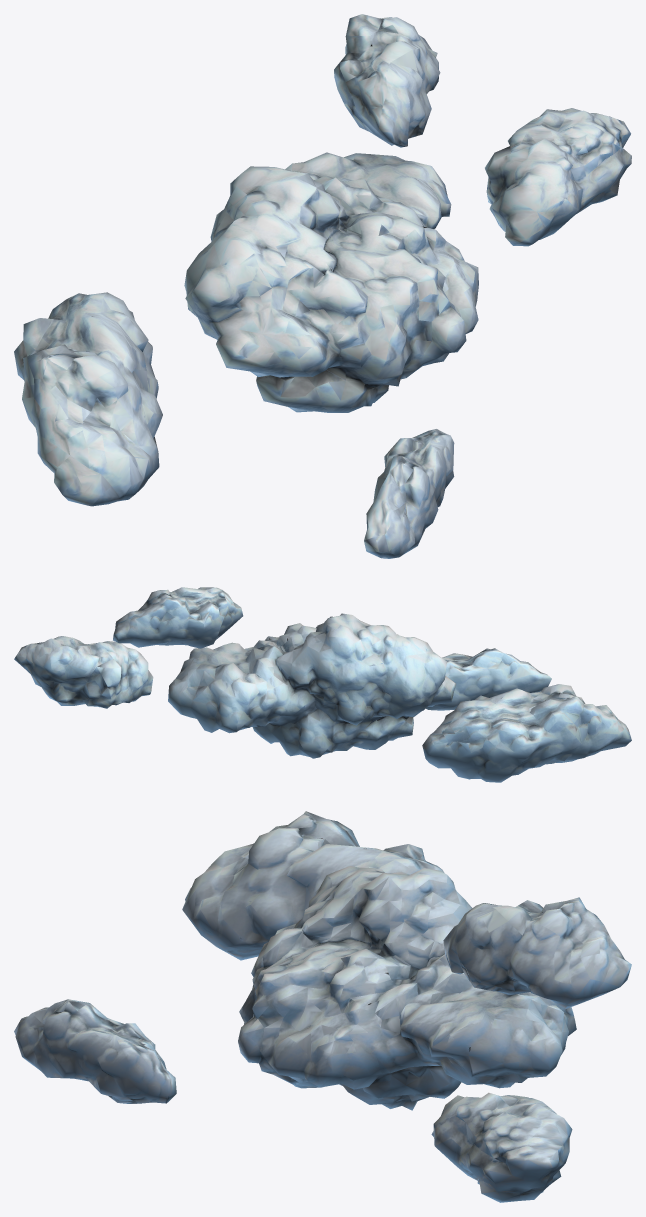
File: clouds.glb
3 views of the same model, one above another, from view 1: azimuth 30°, elevation 25°; view 2: azimuth 150°, elevation 25°; view 3: azimuth 270°, elevation 25° (orthographic). The views are drawn at different scales.
Parts seen in each view (by area): view 1: clouds; view 2: clouds; view 3: clouds.
Boxes of the visible parts, x1,y1,x2,y2 form: clouds: [14, 14, 631, 558]; clouds: [14, 587, 631, 782]; clouds: [14, 811, 631, 1202].
Size of the model in its own units: 21.82 by 8.26 by 16.3.
Materials: 1 (1 with a texture image).
